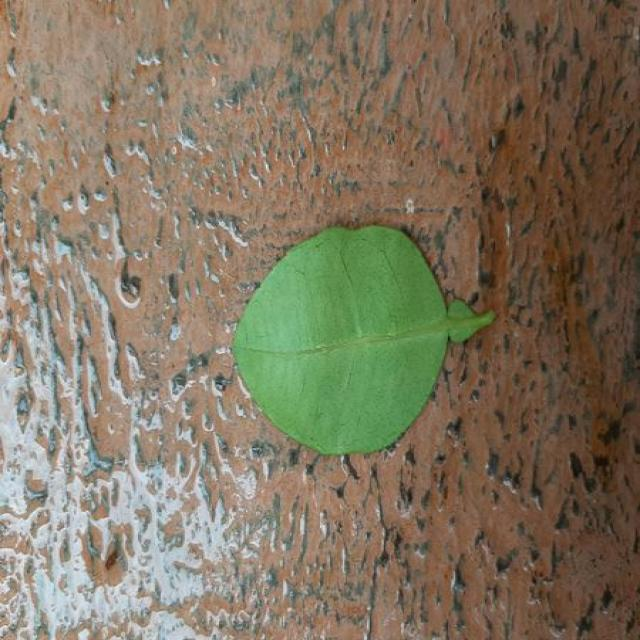lemon: (233, 225, 493, 454)
